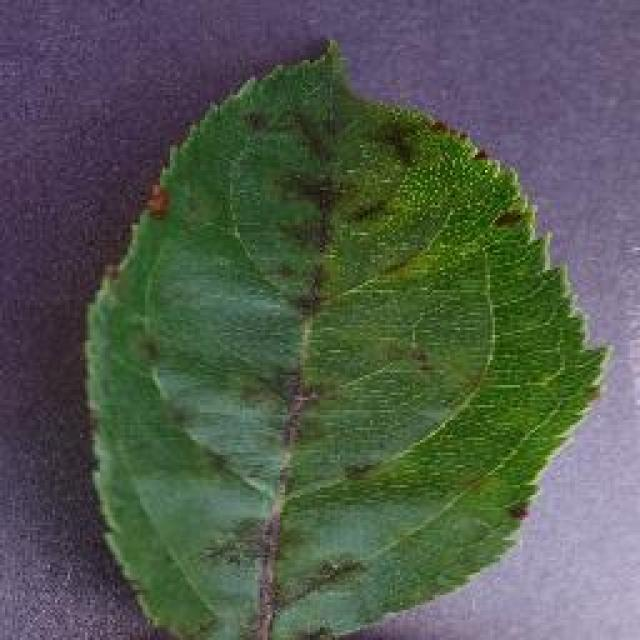apple scab disease: (80, 35, 612, 637)
